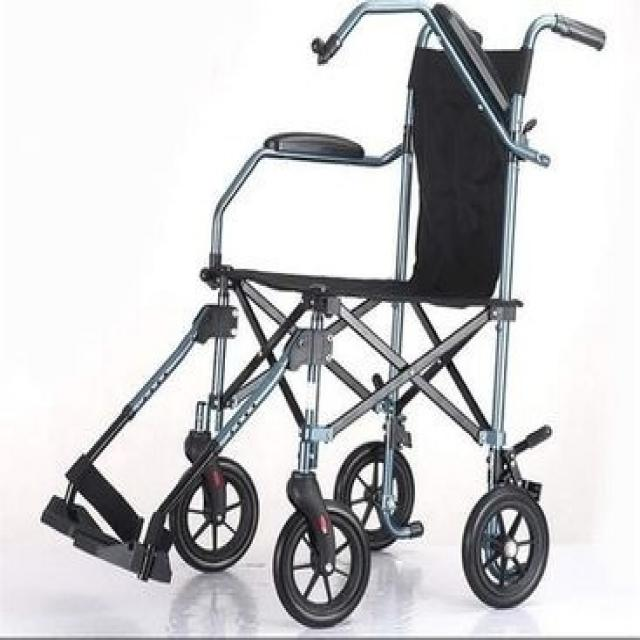wheelchair: (34, 0, 612, 634)
